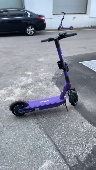beam: (7, 32, 83, 118), (57, 11, 76, 30)
